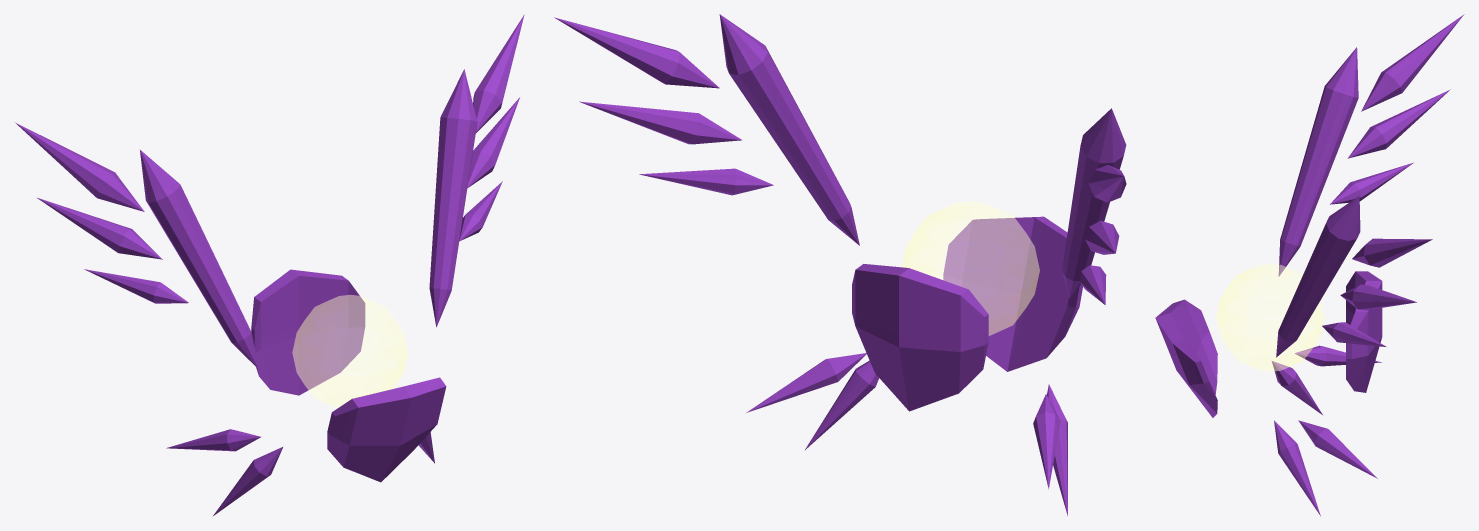
File: MobileEnemy.glb
3 renders of one model, left to right at view 1: azimuth 30°, elevation 25°; view 2: azimuth 150°, elevation 25°; view 3: azimuth 270°, elevation 25°, orthographic. The views are drawn at different scales.
Parts seen in each view (by area): view 1: Shield Back, Core, Shield Front, Wing Base L, Wing Base R, Wing Tip High R, Wing Tip Mid R, Wing Tip High L, Wing Tip Mid L, Wing Tip Low R, Foot Wing Low R, Foot Wing High R (+1 smaller); view 2: Shield Back, Shield Front, Core, Wing Base L, Wing Base R, Wing Tip High L, Wing Tip Mid L, Wing Tip Low L, Foot Wing High L, Foot Wing Low L, Foot Wing High R, Foot Wing Low R (+3 smaller); view 3: Core, Wing Base R, Wing Base L, Shield Front, Shield Back, Wing Tip High R, Wing Tip Mid R, Wing Tip High L, Foot Wing Low L, Wing Tip Mid L, Foot Wing High L, Wing Tip Low R (+3 smaller).
Part boxes in pixels (<box>): Shield Back: <box>251,269,365,395</box>; Core: <box>292,295,407,408</box>; Shield Front: <box>327,377,446,482</box>; Wing Base L: <box>429,69,477,327</box>; Wing Base R: <box>140,150,258,369</box>; Wing Tip High R: <box>15,122,144,211</box>; Wing Tip Mid R: <box>37,198,162,259</box>; Wing Tip High L: <box>473,14,524,133</box>; Wing Tip Mid L: <box>467,97,519,187</box>; Wing Tip Low R: <box>84,269,188,303</box>; Foot Wing Low R: <box>213,447,282,515</box>; Foot Wing High R: <box>166,429,260,451</box>; Shield Back: <box>852,264,988,411</box>; Shield Front: <box>943,216,1082,371</box>; Core: <box>902,201,1039,335</box>; Wing Base L: <box>719,14,859,245</box>; Wing Base R: <box>1062,108,1126,298</box>; Wing Tip High L: <box>554,17,719,88</box>; Wing Tip Mid L: <box>579,101,742,144</box>; Wing Tip Low L: <box>639,168,773,195</box>; Foot Wing High L: <box>746,353,866,412</box>; Foot Wing Low L: <box>805,360,878,449</box>; Foot Wing High R: <box>1033,394,1060,489</box>; Foot Wing Low R: <box>1047,384,1067,515</box>; Core: <box>1216,264,1324,371</box>; Wing Base R: <box>1278,47,1358,276</box>; Wing Base L: <box>1276,196,1360,357</box>; Shield Front: <box>1155,299,1217,417</box>; Shield Back: <box>1346,271,1382,392</box>; Wing Tip High R: <box>1361,14,1464,111</box>; Wing Tip Mid R: <box>1347,89,1450,158</box>; Wing Tip High L: <box>1352,238,1432,267</box>; Foot Wing Low L: <box>1274,420,1320,516</box>; Wing Tip Mid L: <box>1340,284,1416,310</box>; Foot Wing High L: <box>1298,420,1377,478</box>; Wing Tip Low R: <box>1330,162,1413,204</box>.
Size of the model in its own units: 1.97 by 1.41 by 1.14.
